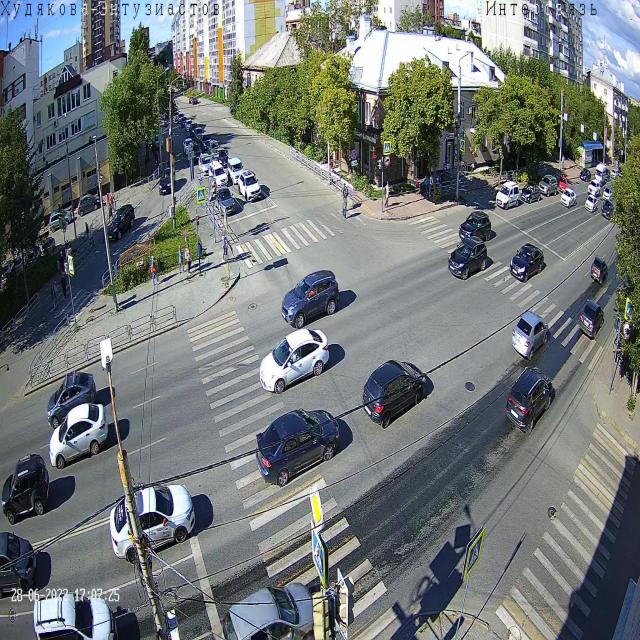car: (109, 483, 196, 565), (255, 407, 340, 488), (220, 580, 329, 640), (258, 326, 330, 396), (361, 358, 427, 430), (33, 590, 119, 640), (49, 402, 109, 471), (280, 269, 340, 331), (1, 451, 50, 526), (504, 364, 554, 436), (47, 368, 97, 432), (0, 529, 37, 600), (511, 309, 549, 362), (448, 234, 488, 280), (509, 242, 544, 284), (459, 210, 492, 249), (107, 204, 135, 242), (579, 298, 604, 340), (495, 178, 520, 211), (238, 169, 262, 203), (214, 186, 235, 217), (208, 160, 228, 189), (590, 254, 608, 286), (158, 166, 176, 196), (228, 156, 245, 186), (520, 181, 541, 204), (538, 174, 558, 197), (198, 152, 214, 176), (560, 188, 576, 210), (199, 133, 213, 153), (215, 148, 229, 168), (208, 139, 221, 160), (587, 179, 601, 198), (584, 194, 598, 212), (602, 199, 614, 220), (190, 142, 202, 162), (182, 138, 195, 155), (580, 167, 592, 183), (193, 127, 204, 144), (559, 173, 568, 193), (602, 187, 613, 202), (153, 133, 163, 149), (189, 122, 199, 136), (601, 168, 611, 182), (184, 118, 193, 132), (172, 110, 180, 122), (177, 112, 185, 124), (610, 168, 618, 180), (181, 116, 188, 127), (192, 98, 198, 106), (190, 96, 195, 102)
pedestrian: (150, 254, 160, 286), (620, 348, 628, 382), (221, 228, 229, 260), (178, 244, 186, 274), (185, 243, 192, 276), (61, 271, 67, 301), (423, 173, 430, 198), (342, 182, 348, 209), (89, 223, 95, 249), (53, 282, 59, 308), (384, 180, 389, 208), (342, 192, 347, 220), (51, 282, 56, 310), (438, 170, 444, 193), (428, 172, 434, 195), (108, 202, 114, 224), (60, 250, 64, 278), (144, 154, 149, 174), (56, 258, 61, 278), (85, 221, 90, 240), (561, 153, 565, 170), (191, 98, 193, 106)
shuttle_taxi: (594, 163, 606, 187)
